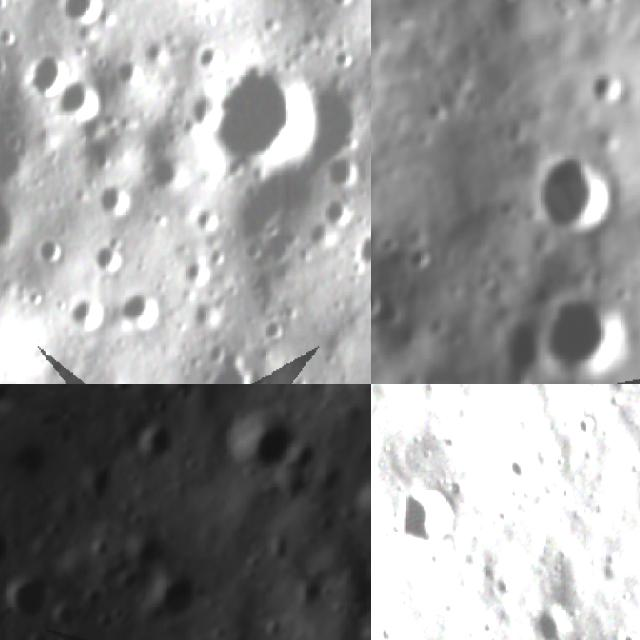crater: (212, 384, 322, 496), (523, 138, 626, 250), (212, 68, 316, 177), (535, 288, 640, 384), (139, 549, 219, 631), (304, 72, 371, 155), (482, 309, 553, 384), (397, 486, 466, 560), (0, 560, 68, 629), (121, 406, 187, 472), (580, 61, 640, 113), (518, 596, 580, 640), (28, 48, 72, 102), (55, 73, 104, 120), (112, 288, 164, 332), (288, 566, 333, 612), (497, 441, 540, 484), (337, 582, 371, 636), (91, 234, 129, 282), (89, 620, 178, 640), (184, 91, 222, 137), (148, 146, 186, 191), (0, 513, 27, 575), (348, 457, 371, 529), (404, 236, 441, 278), (207, 354, 258, 384), (320, 155, 363, 190), (68, 295, 102, 330), (99, 182, 130, 220), (197, 38, 226, 75), (371, 281, 392, 332), (63, 0, 104, 25), (320, 195, 351, 227), (184, 258, 213, 288), (196, 203, 227, 231), (196, 298, 224, 327), (354, 228, 371, 271), (36, 237, 63, 260), (263, 315, 285, 339), (282, 368, 313, 384), (323, 0, 355, 9)
